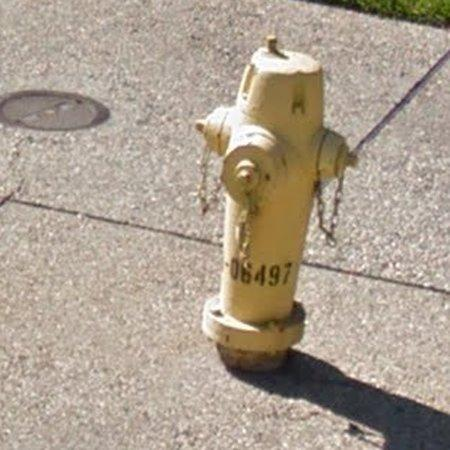a fire hydrant: (196, 37, 358, 372)
